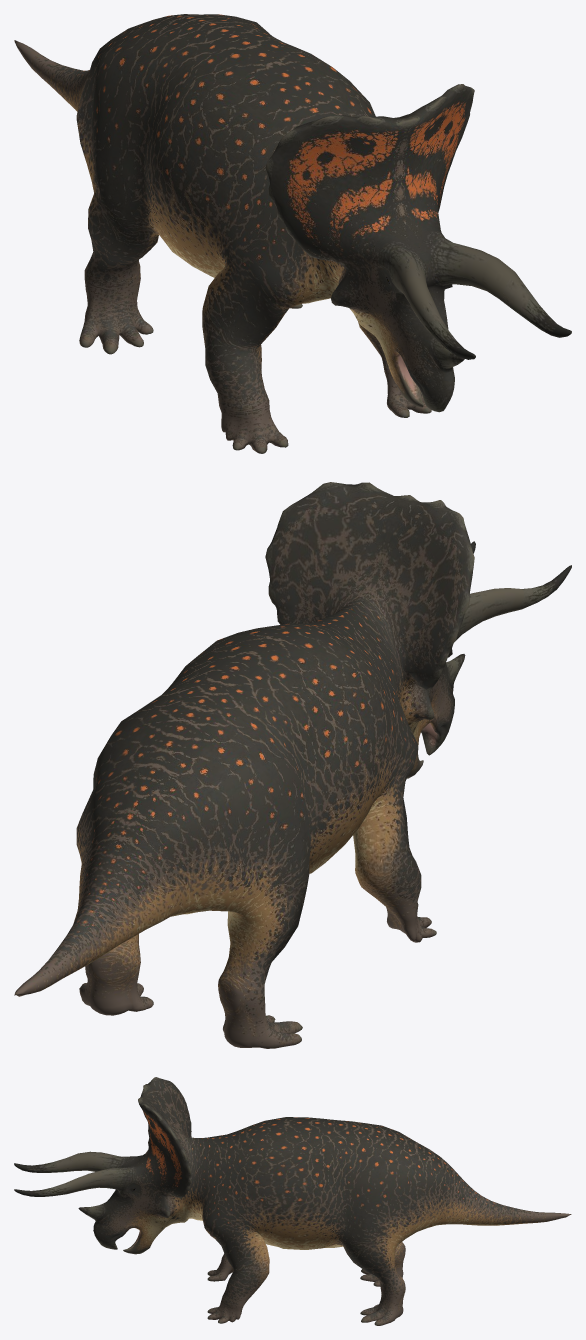
The model's file is Triceratops.glb.
The picture shows the model from 3 angles, top to bottom: view 1: azimuth 30°, elevation 25°; view 2: azimuth 150°, elevation 25°; view 3: azimuth 270°, elevation 25°; orthographic projection. The views are drawn at different scales.
Visible parts, largest first — view 1: DW_Triceratops_Adulto_Mayor_mesh; view 2: DW_Triceratops_Adulto_Mayor_mesh; view 3: DW_Triceratops_Adulto_Mayor_mesh.
Boxes of the visible parts, <box> form: DW_Triceratops_Adulto_Mayor_mesh: <box>14,14,571,453</box>; DW_Triceratops_Adulto_Mayor_mesh: <box>14,482,571,1048</box>; DW_Triceratops_Adulto_Mayor_mesh: <box>14,1077,571,1325</box>.
Bounding box in the file's own units: 0.2488 × 0.4019 × 1.
2 materials, 2 textured.
